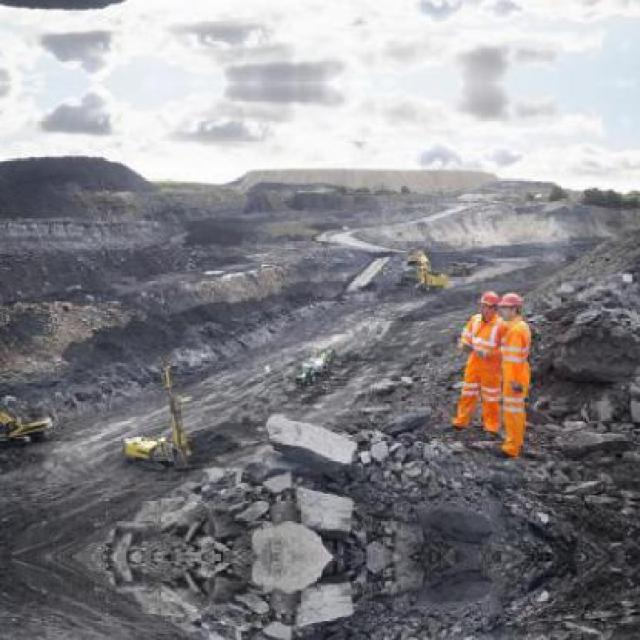helmet: (498, 291, 520, 315), (478, 290, 498, 316)
